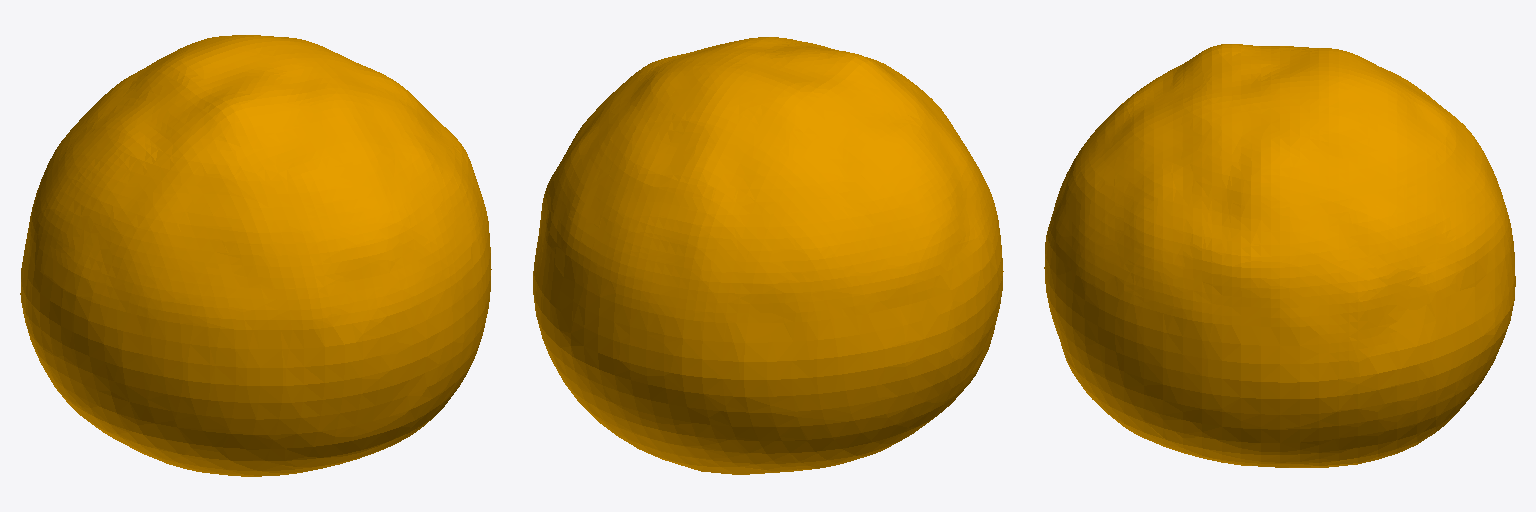
The robot description file, URDF, robot "055_baseball":
<?xml version="1.0"?>
<robot name="055_baseball">
  <link name="base_link">
    <inertial>
      <origin xyz="-0.003057 -0.004464 0.040563" rpy="0 0 0" />
      <mass value="0.230680" />
      <inertia ixx="0.00013065" ixy="-0.00000063" ixz="0.00000013"
               iyy="0.00012881" iyz="0.00000002" izz="0.00014426" />
    </inertial>
    <visual>
      <geometry><mesh filename="055_baseball.stl" scale="1.0 1.0 1.0" /></geometry>
    </visual>
    <collision>
      <geometry><mesh filename="055_baseball_col.obj" scale="1.0 1.0 1.0" /></geometry>
    </collision>
    <contact>
      <lateral_friction value="1.0"/>
    </contact>
  </link>
</robot>

--- Render facts (derived) ---
3 views of the same robot in one strip: view 1: azimuth 30°, elevation 25°; view 2: azimuth 150°, elevation 25°; view 3: azimuth 270°, elevation 25° (orthographic).
Robot: 055_baseball — 1 links, 0 joints (none); root link base_link; default pose: all joints at 0.
Links seen in each view (by area): view 1: base_link; view 2: base_link; view 3: base_link.
Boxes of the visible links, left/top/right/bottom form: base_link: left=20, top=35, right=491, bottom=476; base_link: left=533, top=37, right=1003, bottom=474; base_link: left=1044, top=44, right=1515, bottom=467.
Size in the robot's own frame: 0.0789 by 0.0795 by 0.07 metres.
Meshes: 1 distinct files referenced, 1 mesh visuals loaded (1 binary STL).
